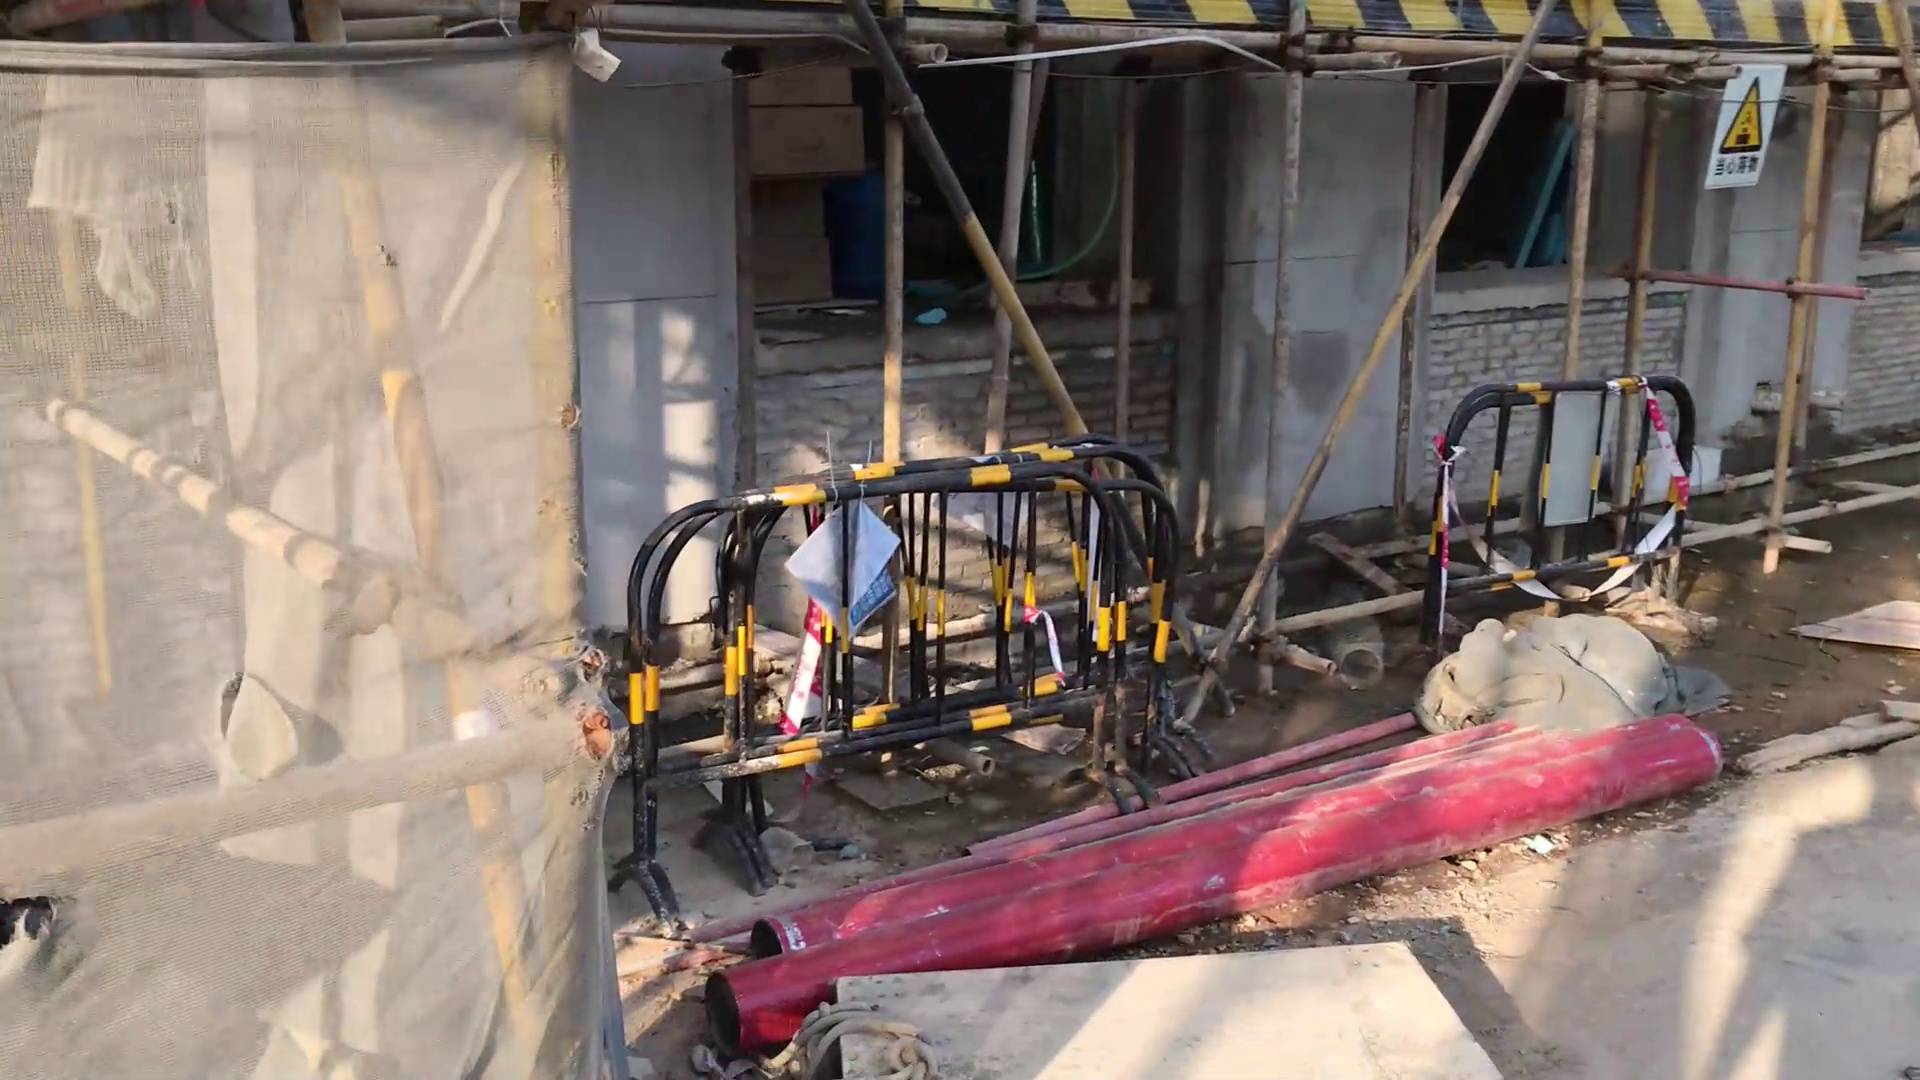fence: (608, 440, 1207, 893), (1418, 368, 1701, 630)
slogan: (1708, 63, 1780, 190)
